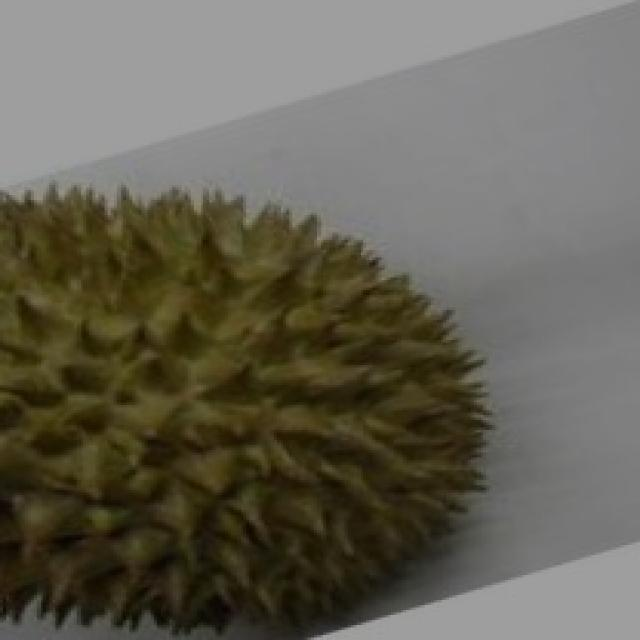fruit: (0, 150, 348, 640), (172, 198, 548, 638)
